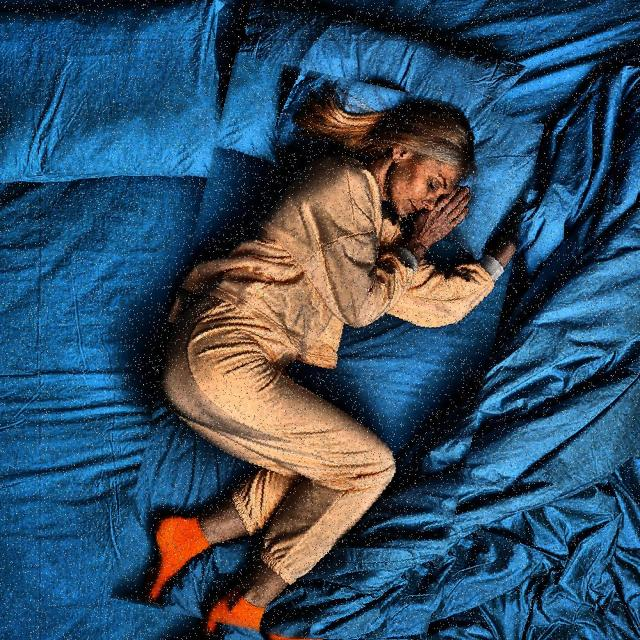Not_Supine: (154, 96, 517, 631), (496, 135, 517, 162)
